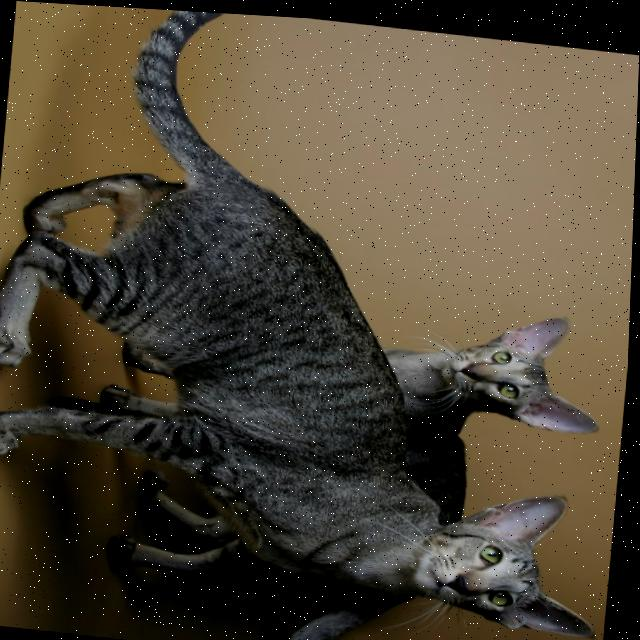Oriental: (0, 0, 640, 638), (379, 288, 620, 495)
